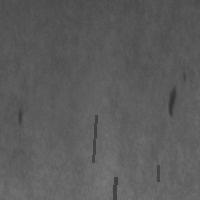inclusion: (166, 70, 188, 117), (91, 113, 98, 164), (14, 105, 25, 133), (110, 175, 117, 200), (156, 163, 160, 183)
